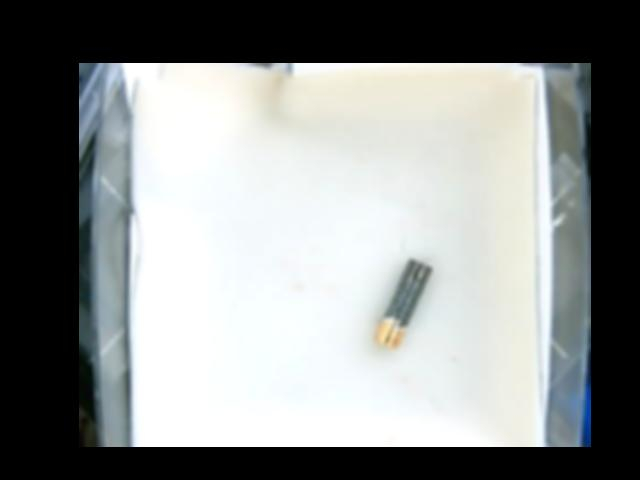Battery: (376, 256, 432, 350)
